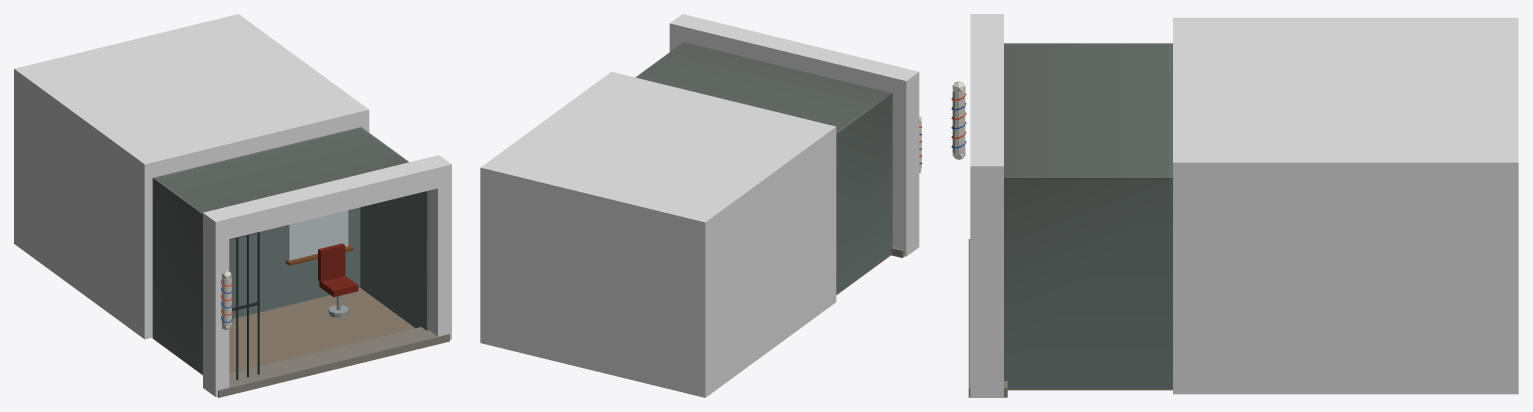
Rendered from tret_hot_toc_48.glb.
The picture shows the model from 3 angles, left to right: view 1: azimuth 30°, elevation 25°; view 2: azimuth 150°, elevation 25°; view 3: azimuth 270°, elevation 25°; orthographic projection. The views are drawn at different scales.
Parts seen in each view (by area): view 1: tret_hot_toc_48; view 2: tret_hot_toc_48; view 3: tret_hot_toc_48.
Boxes of the visible parts, x1,y1,x2,y2 form: tret_hot_toc_48: (14, 14, 451, 397); tret_hot_toc_48: (480, 14, 922, 397); tret_hot_toc_48: (951, 14, 1518, 397).
Bounding box in the file's own units: 4.8 × 3.42 × 7.55.
